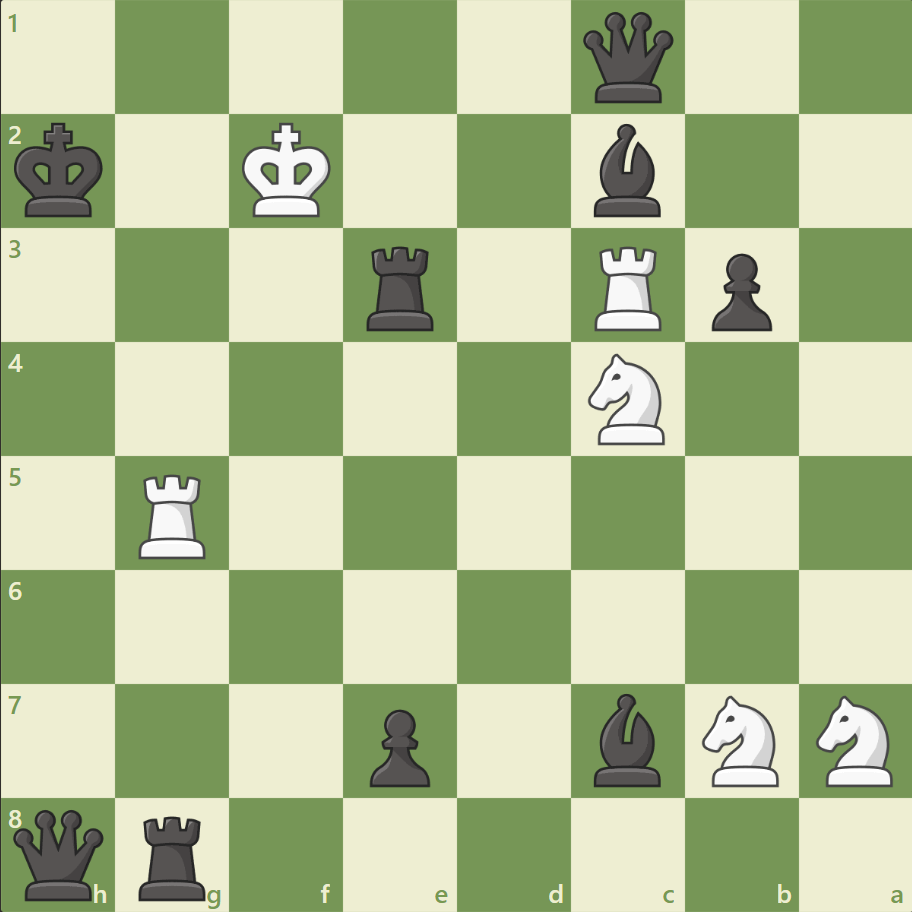K: (238, 117, 338, 225)
N: (806, 688, 903, 791), (692, 688, 789, 791), (579, 348, 676, 450)
R: (587, 239, 670, 336), (133, 466, 215, 563)
b: (585, 687, 669, 790), (585, 120, 669, 222)
k: (11, 117, 111, 225)
p: (701, 246, 776, 337), (361, 700, 435, 791)
q: (10, 804, 109, 903), (578, 9, 677, 108)
r: (133, 806, 215, 904), (360, 239, 442, 336)
